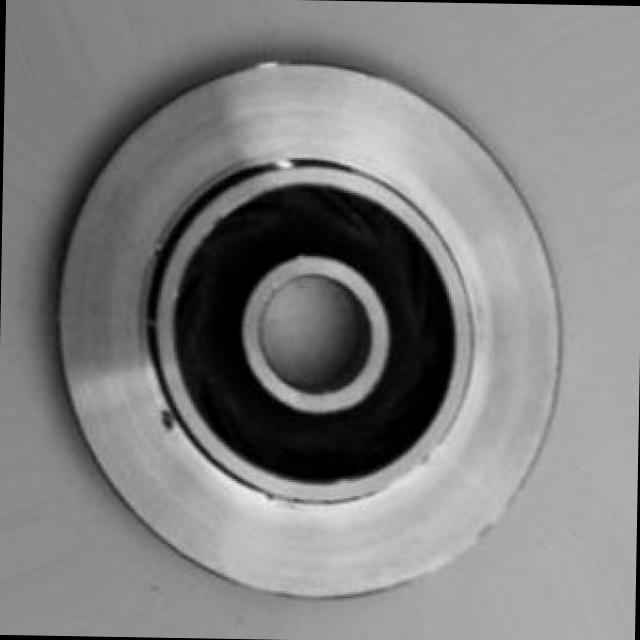Defect: (153, 399, 184, 437)
